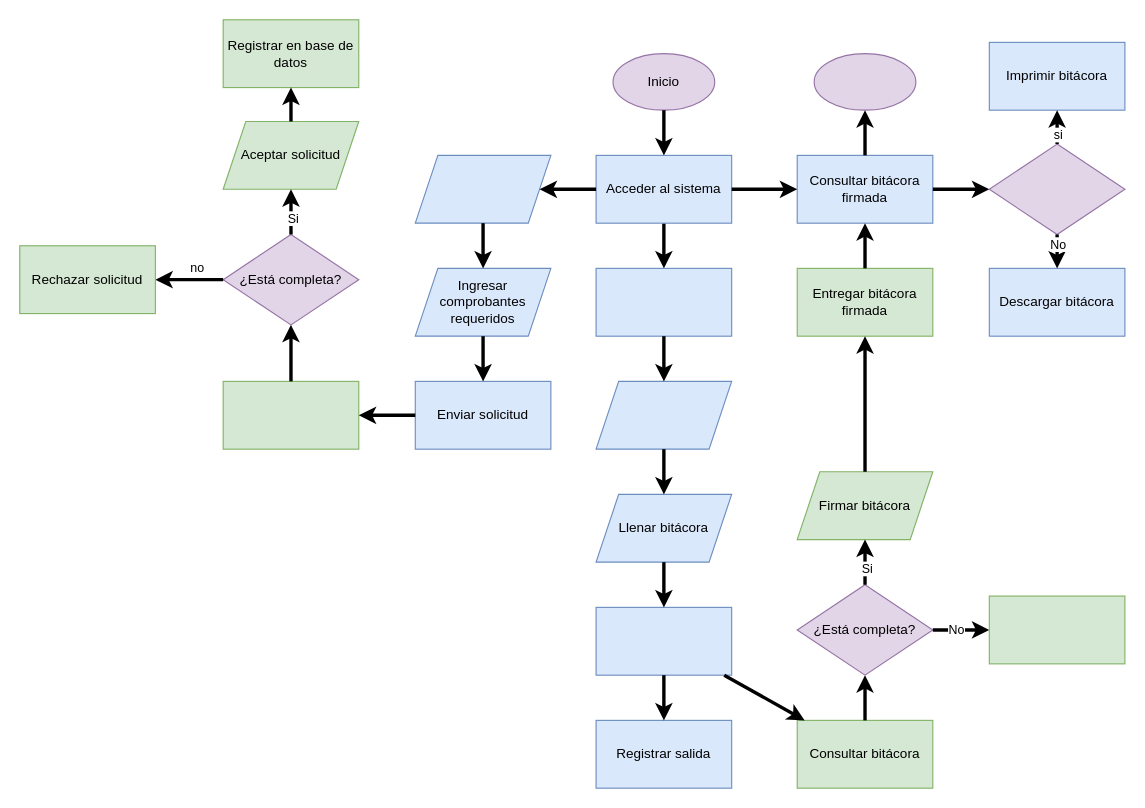
This 1145x808 diagram has some shape labels left out. Each missing label, with the box of its shape:
Consultar solicitud: (222, 380, 359, 449)
Devolver observaciones: (988, 595, 1125, 664)
Enviar bitácora: (595, 606, 732, 675)
Fin: (813, 53, 916, 110)
Iniciar sesión: (595, 267, 732, 336)
Llenar formulario de solicitud de registro: (414, 154, 551, 223)
Registrar visita: (595, 380, 732, 449)
¿Imprimir?: (988, 143, 1125, 234)
